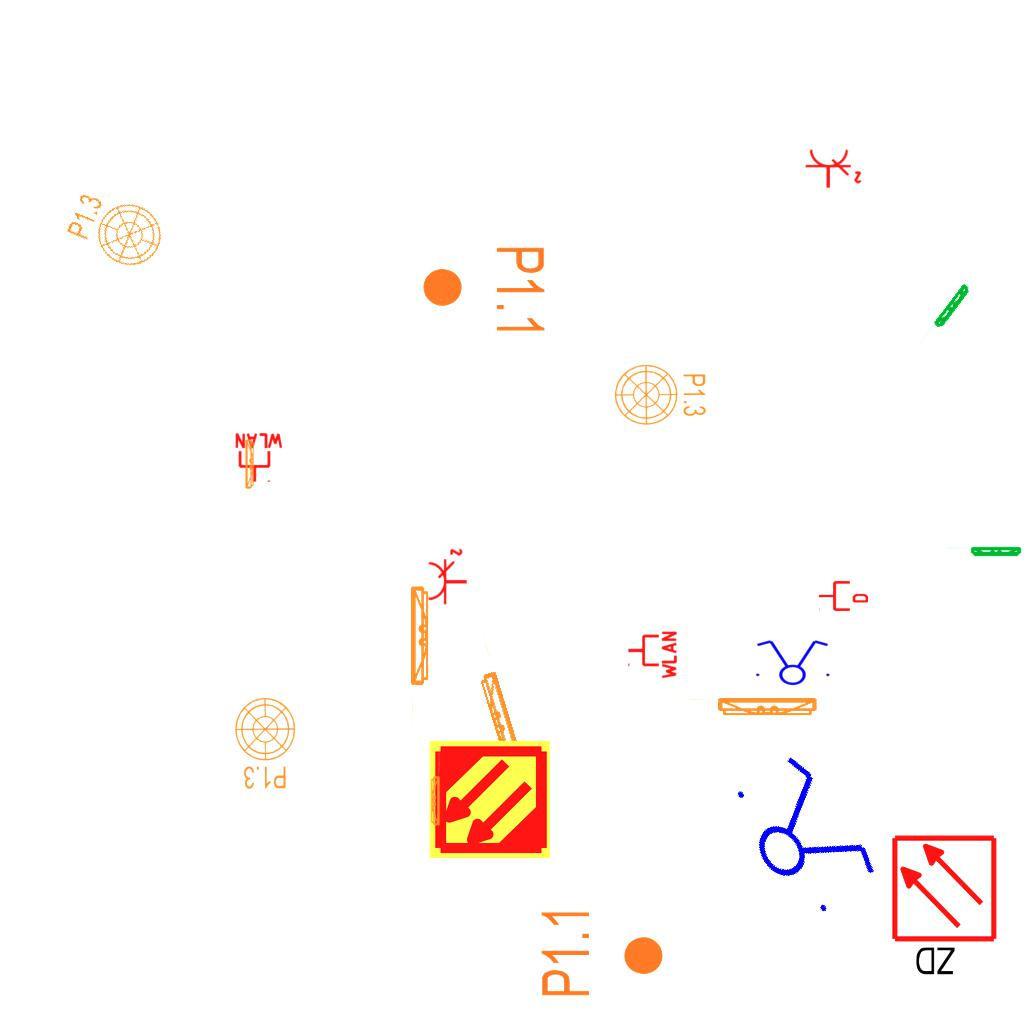ASR_Ansaugrauchmelder: (427, 737, 552, 862)
Aufbaurundleuchte_LED_Treppenhaus: (53, 174, 175, 277), (228, 696, 297, 798), (613, 363, 715, 432)
Datenanschluss_einfach: (818, 579, 868, 613)
Downlight_LED_Einbauleuchten_Flur_2: (538, 906, 666, 999), (420, 244, 548, 337)
Schukosteckdose_mehrfach: (803, 147, 863, 191), (426, 547, 470, 607)
Serienschalter: (713, 738, 891, 932), (750, 638, 834, 686)
Sicherheitsleuchte_Wandeinbau: (458, 617, 529, 778), (916, 281, 974, 352), (663, 695, 822, 720), (408, 581, 433, 740), (944, 546, 1023, 558), (244, 437, 256, 516), (429, 749, 441, 828)
WLAN: (233, 432, 285, 484), (626, 629, 678, 681)
ZD_Melder_in_Zwischendecke_mit_Revisionsoeffnung_mind_40_x_40_cm: (889, 833, 1003, 982)
